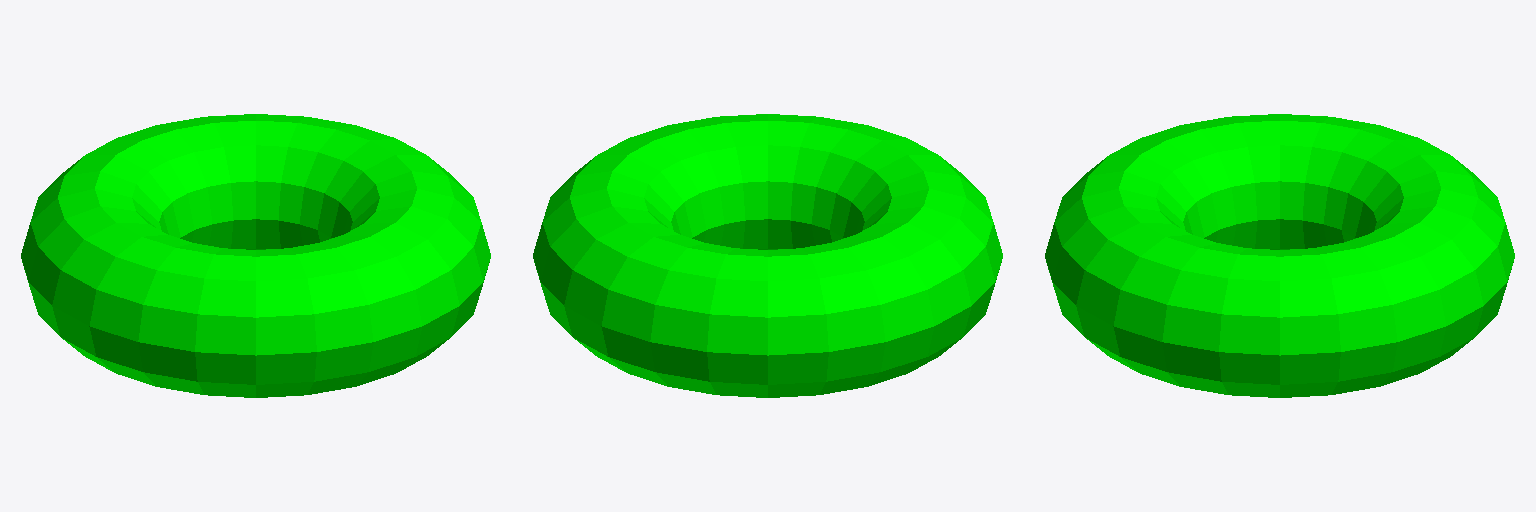
The picture shows the model from 3 angles: view 1: azimuth 30°, elevation 25°; view 2: azimuth 150°, elevation 25°; view 3: azimuth 270°, elevation 25°; orthographic projection.
Parts seen in each view (by area): view 1: Torus002; view 2: Torus002; view 3: Torus002.
Part boxes in pixels (x1,y1,x2,y2): Torus002: (21,114,490,397); Torus002: (533,114,1002,397); Torus002: (1045,114,1514,397).
Size of the model in its own units: 169 by 53.38 by 169.
Materials: 1 (1 with a texture image).